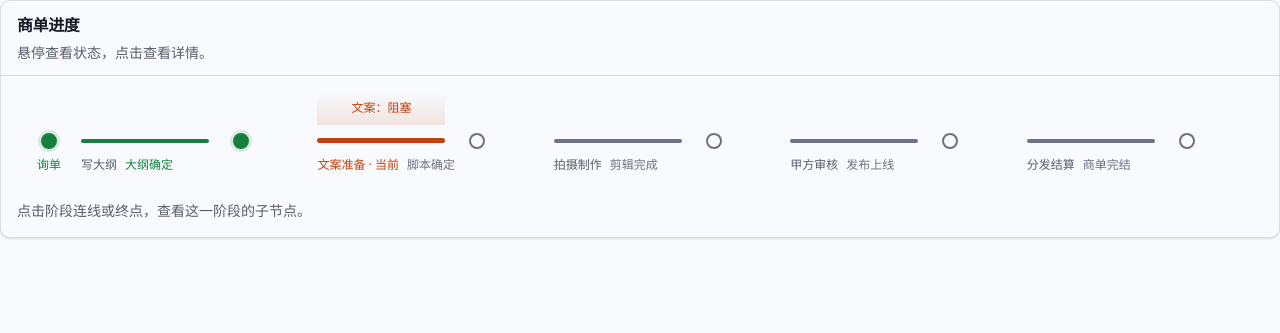
Test case: ProgressTimeline › click expands the child list inside the progress block without summary fields
Click the button with test id "progress-stage" showing "文案：阻塞 文案准备 · 当前 脚本确定" at (436, 140), box [317,92,554,188]
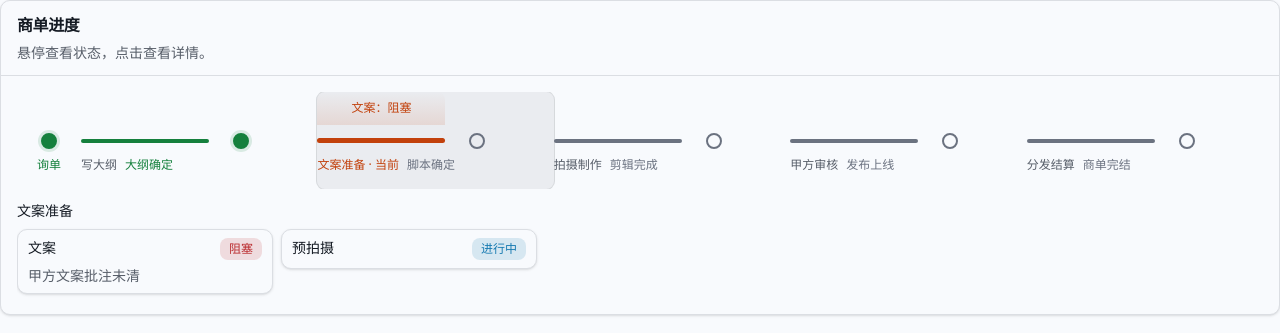
Expected: the element with test id "progress-stage-detail" shows "文案准备", [17,200,73,220]
Expected: the text with test id "progress-blocker" reads "甲方文案批注未清", [28,266,140,284]
Expected: the element with test id "progress-stage-node" shows "文案", [28,238,56,256]
